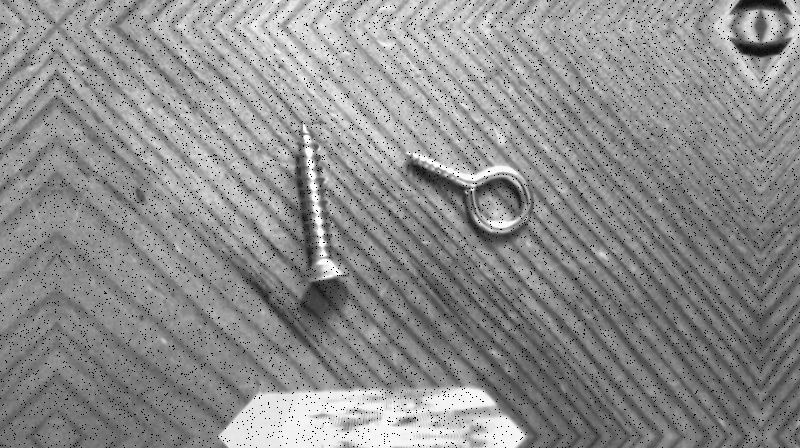O001: (396, 147, 536, 241)
S001: (286, 121, 351, 294)
